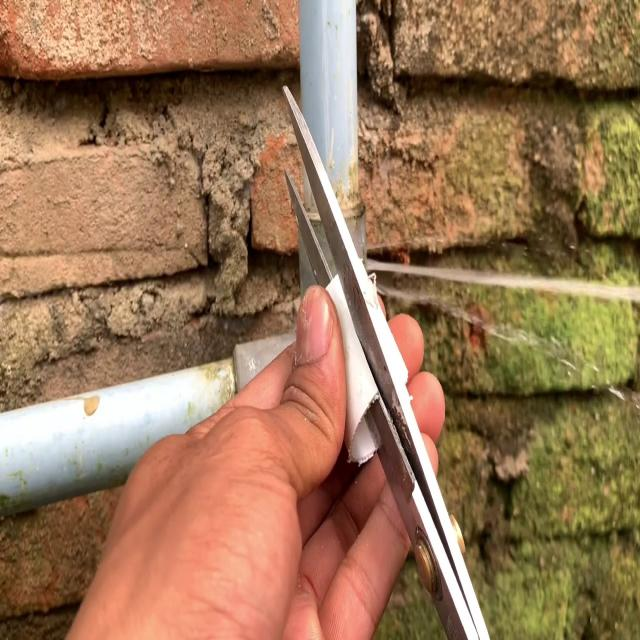leak: (365, 258, 640, 302)
